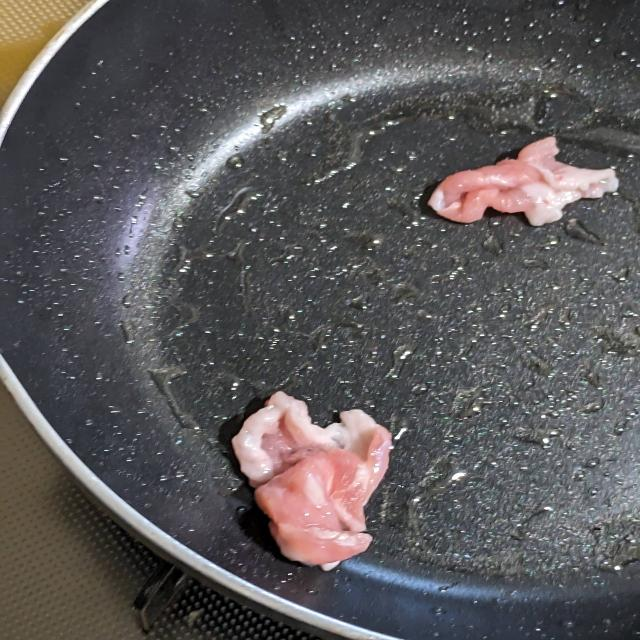NG raw pork,: (227, 381, 410, 576), (425, 129, 629, 233)
